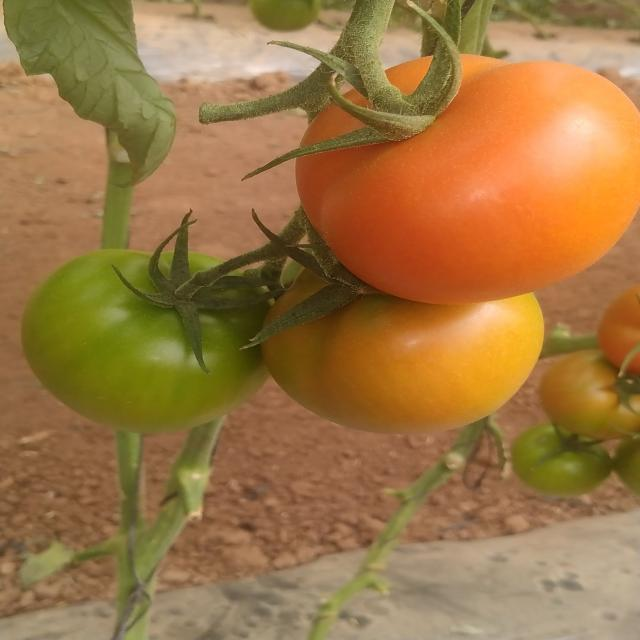Ripe Tomato: (307, 39, 638, 304), (270, 268, 548, 430), (549, 358, 640, 442), (593, 306, 640, 372)
Unripe Tomato: (24, 246, 247, 428), (517, 438, 603, 504), (250, 0, 320, 33), (621, 447, 640, 482)
